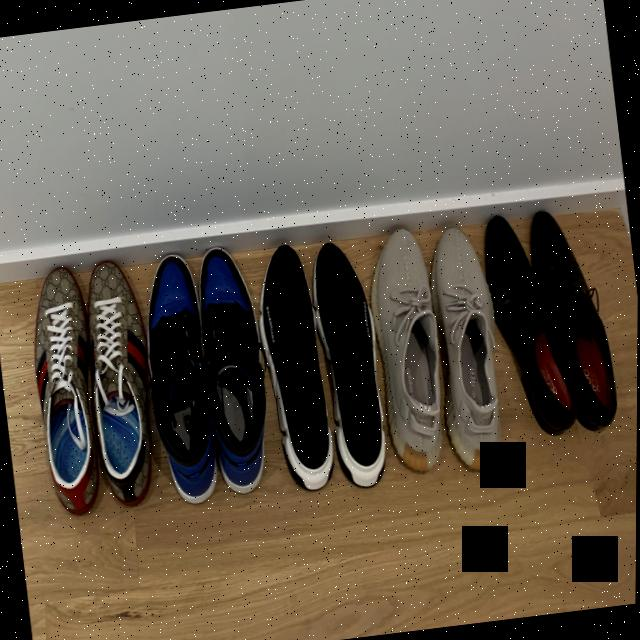shoes: (250, 220, 340, 514), (182, 240, 282, 501), (417, 218, 514, 478), (307, 231, 398, 504), (363, 220, 454, 483), (21, 262, 109, 520), (137, 248, 223, 512), (79, 252, 167, 506)
